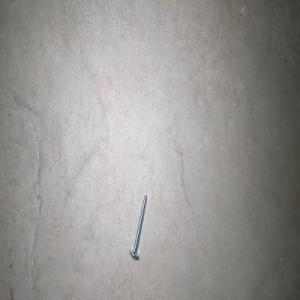Bolt: (129, 193, 147, 259)
